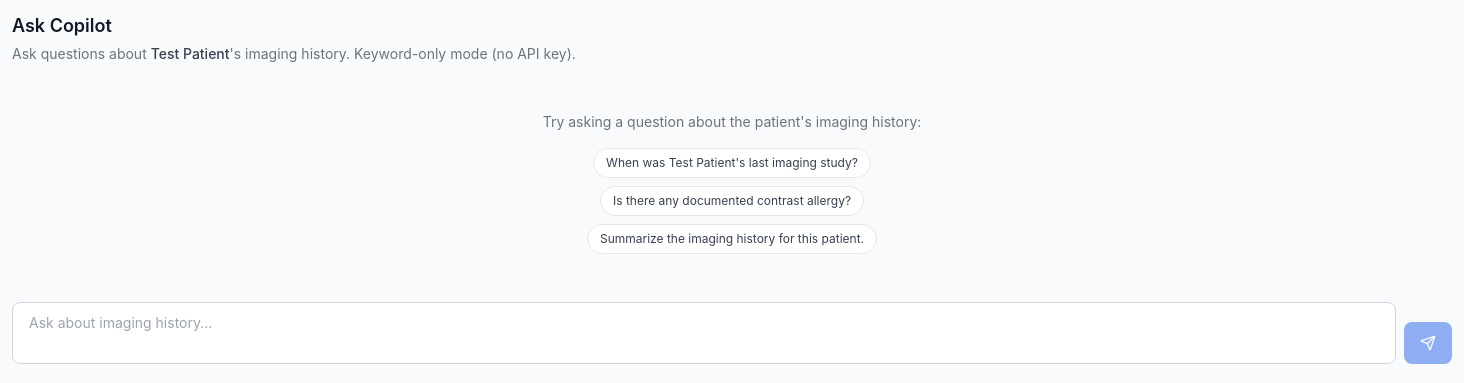
Test: CopilotView — input › enables send button when input has text
This screenshot has width=1464, height=383.
Type "test question" into the text box with placeholder "Ask about imaging history..." at coordinates (704, 333), box [12, 302, 1396, 364]
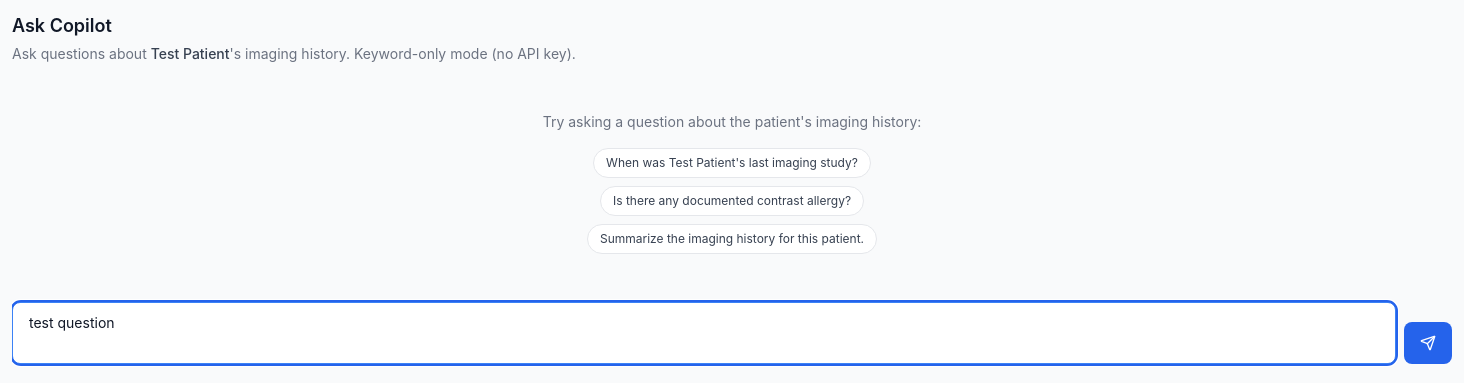
Expected: the button named "Send message" is enabled, [1404, 322, 1452, 364]
